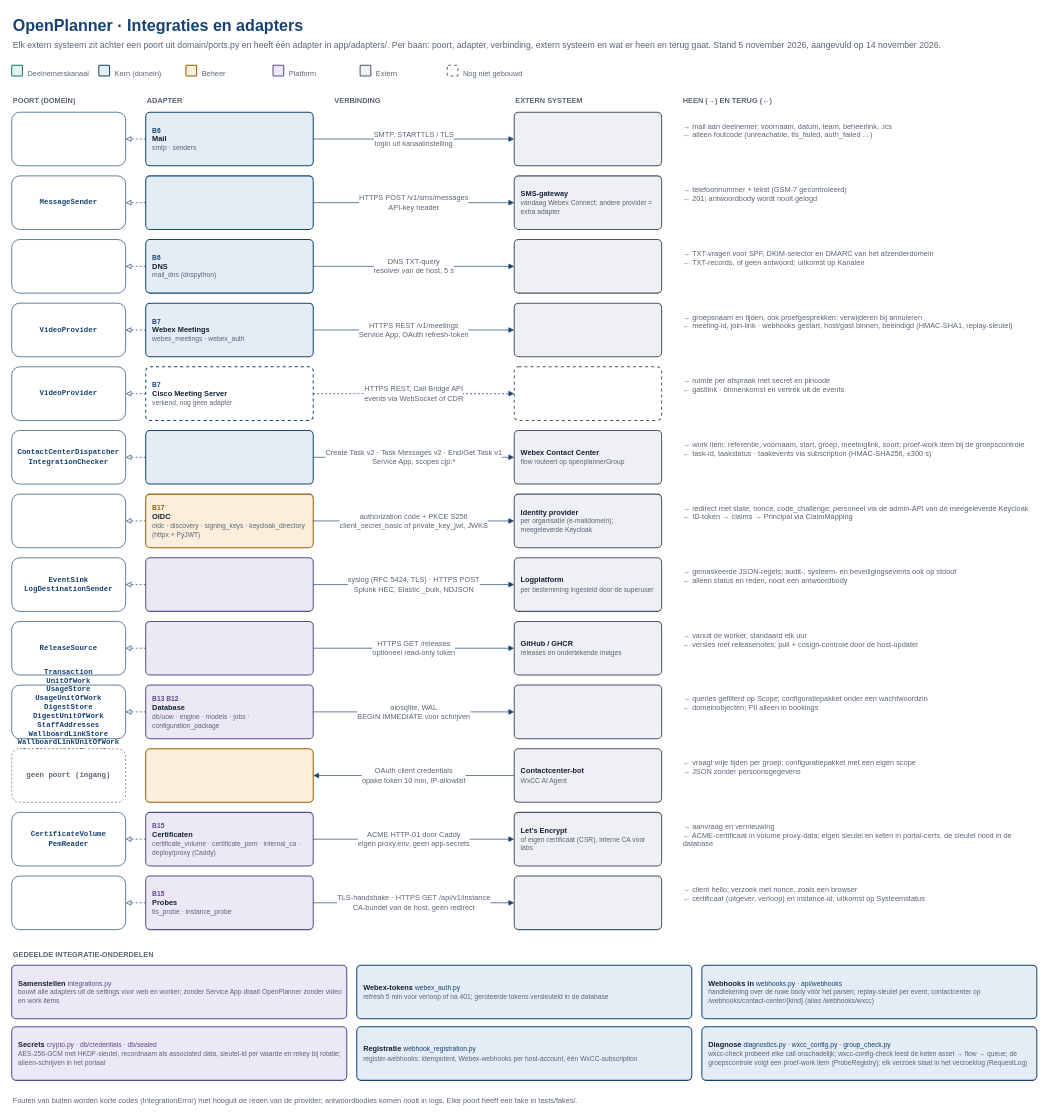
This 1049x1117 diagram has some shape labels left out. Each missing label, with the centre of its shape:
"B11 Machine-API api/agent (token, RequireScope)" goes at [229,775].
"B16 Releases releases" goes at [229,648].
"B6 SMS sms · webex_connect_sms · senders (SMS_GATEWAYS)" goes at [229,202].
"B7 WxCC wxcc · contact_centers · webex_auth · group_check" goes at [229,457].
"CertificateProbe InstanceProbe" goes at [68,902].
"Cisco Meeting Server on-premises; web-app ingebed in de embedded call" goes at [587,393].
"DNS afzenderdomein van het kanaal" goes at [587,266].
"IdentityProvider DiscoveryFetcher SigningKeys StaffDirectory" goes at [68,520].
"Logbestemmingen event_sink · log_shipping · log_senders" goes at [229,584].
"MailDomainResolver" goes at [68,266].
"Mailprovider per organisatie; dev: Mailpit" goes at [587,138].
"MessageSender SenderDirectory" goes at [68,139].
"Publiek adres OpenPlanner zelf, via DNS en proxy" goes at [587,902].
"SQLite-volume gedeeld door web en worker" goes at [587,711].
"Webex Meetings namens de host van de groep" goes at [587,329].
